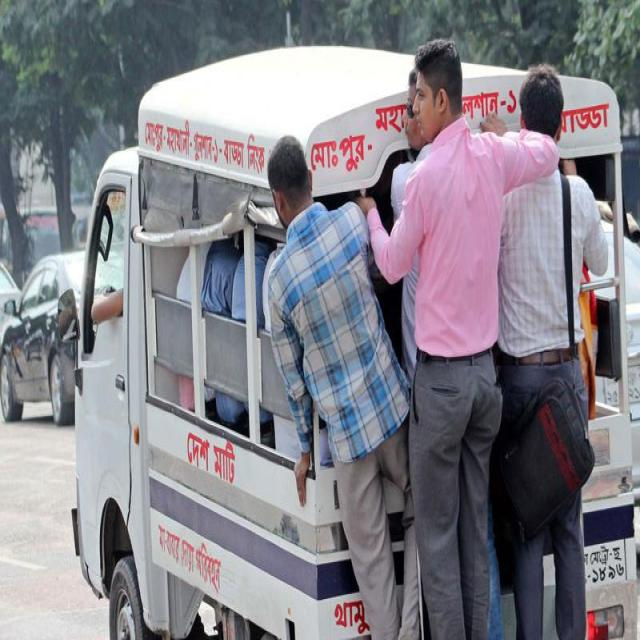Leguna: (59, 37, 628, 640)
